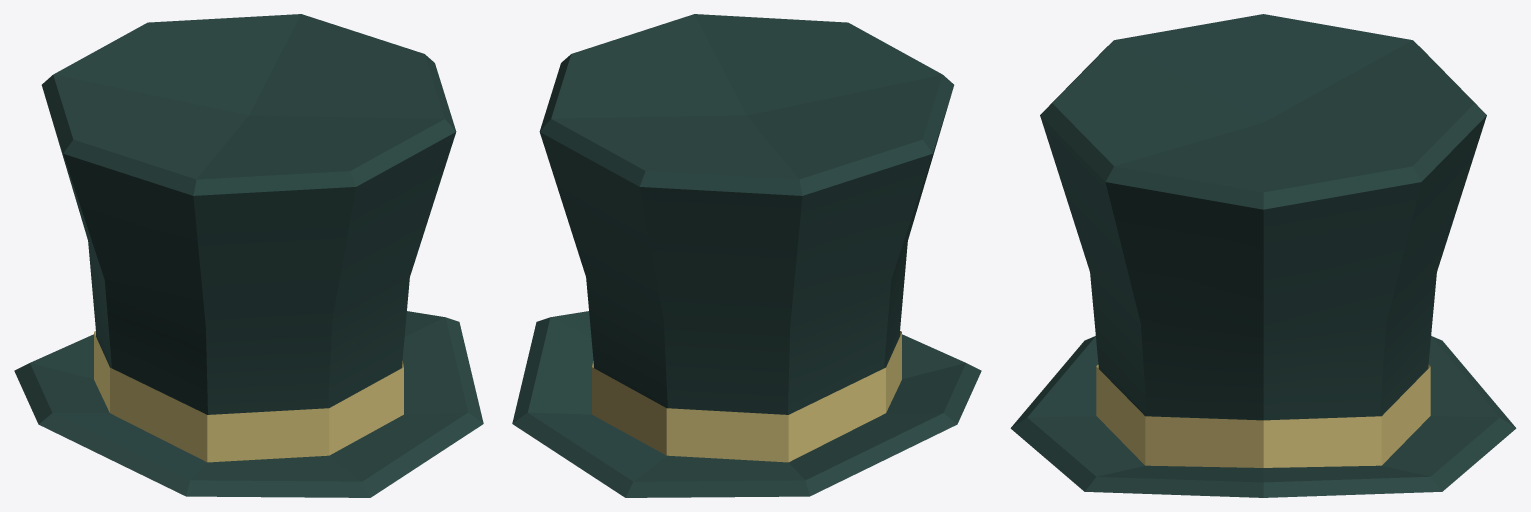
Rendered from mod_hat.fbx.
The picture shows the model from 3 angles, left to right: view 1: azimuth 30°, elevation 25°; view 2: azimuth 150°, elevation 25°; view 3: azimuth 270°, elevation 25°; orthographic projection. The views are drawn at different scales.
Visible parts, largest first — view 1: Hat; view 2: Hat; view 3: Hat.
Part boxes in pixels (x1,y1,x2,y2): Hat: (14, 14, 483, 497); Hat: (512, 14, 981, 497); Hat: (1010, 14, 1516, 497).
Bounding box in the file's own units: 139 × 98.77 × 139.
